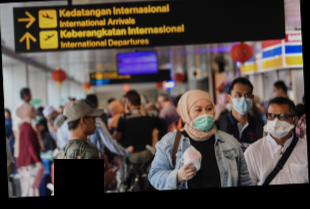with_mask: (186, 102, 217, 132), (265, 108, 293, 137), (230, 90, 254, 115)
without_mask: (86, 115, 99, 134)
